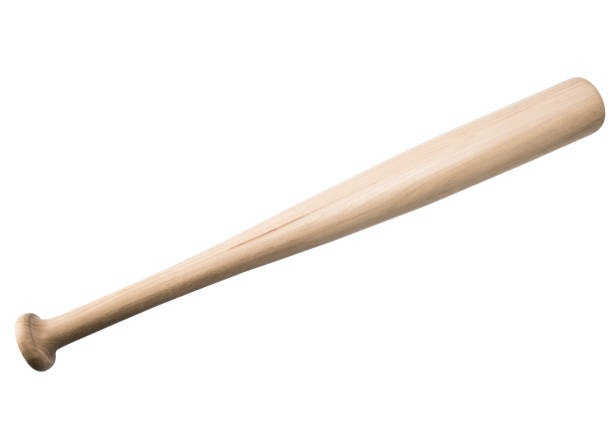bita: (14, 84, 592, 370)
